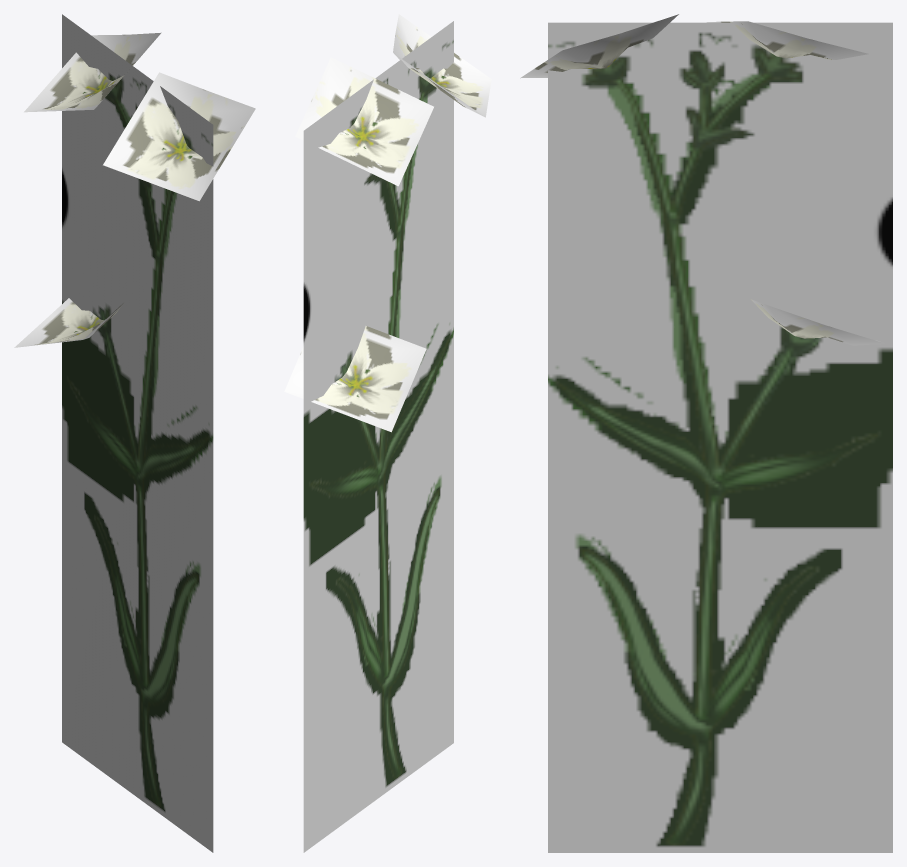
Rendered from Flower2.fbx.
3 views of the same model, side by side, from view 1: azimuth 30°, elevation 25°; view 2: azimuth 150°, elevation 25°; view 3: azimuth 270°, elevation 25° (orthographic). The views are drawn at different scales.
Parts seen in each view (by area): view 1: Flower2; view 2: Flower2; view 3: Flower2.
Boxes of the visible parts, bbox=[...] form: Flower2: bbox=[14, 14, 255, 852]; Flower2: bbox=[284, 14, 491, 852]; Flower2: bbox=[520, 14, 892, 852].
Bounding box in the file's own units: 0.4594 × 2.72 × 1.08.
Materials: 1 (1 with a texture image).
